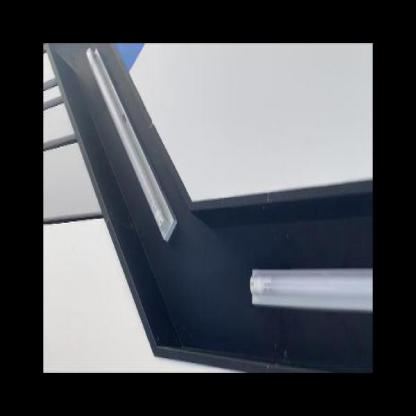light_off: (81, 45, 186, 250), (244, 218, 370, 334)
